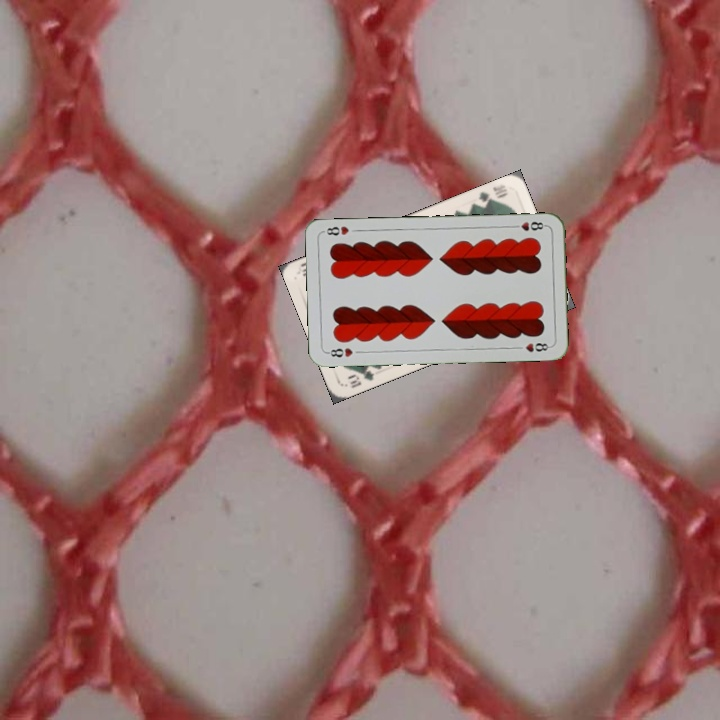G10: (473, 180, 511, 210), (343, 364, 377, 391)
H8: (508, 218, 549, 233), (323, 344, 355, 360)
